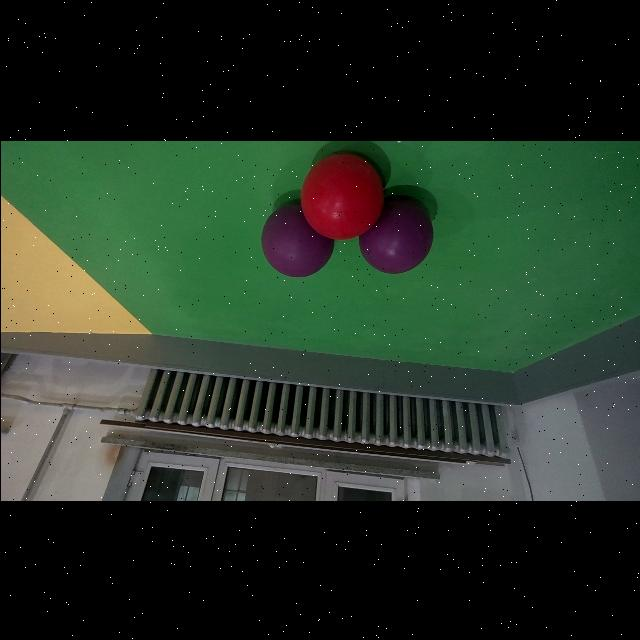P: (356, 192, 436, 272), (256, 200, 332, 278)
R: (300, 152, 382, 238)
